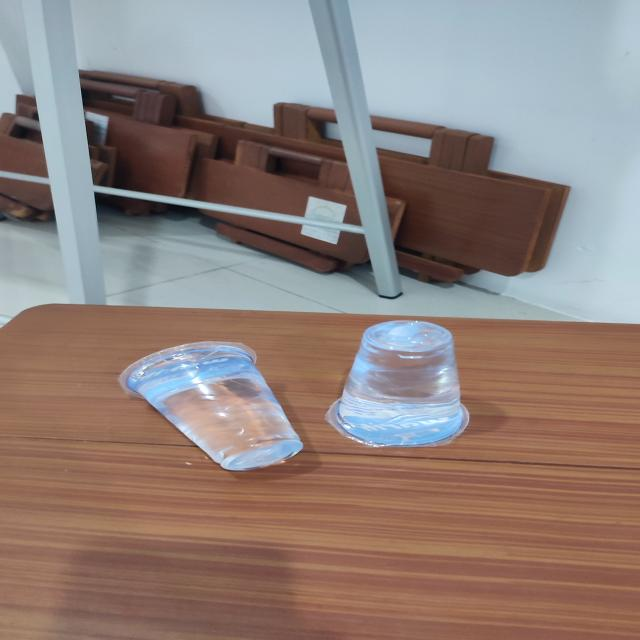air gelas: (105, 334, 312, 483), (317, 316, 481, 456)
